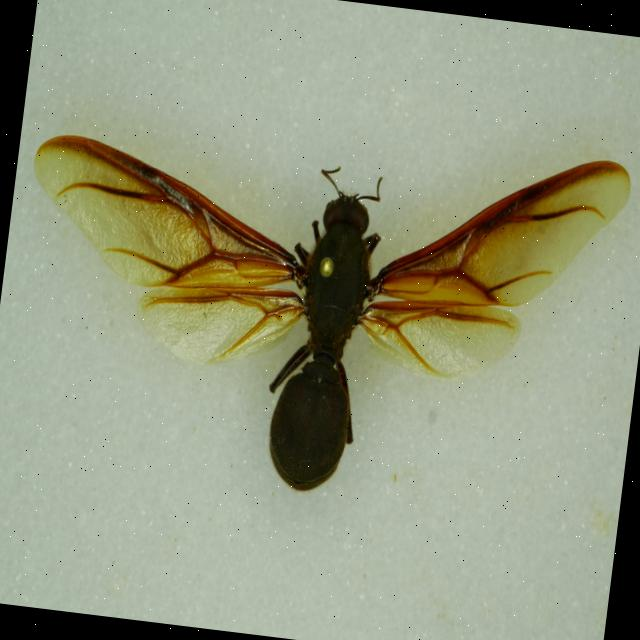Alive-Female-Alate: (0, 90, 634, 528)
